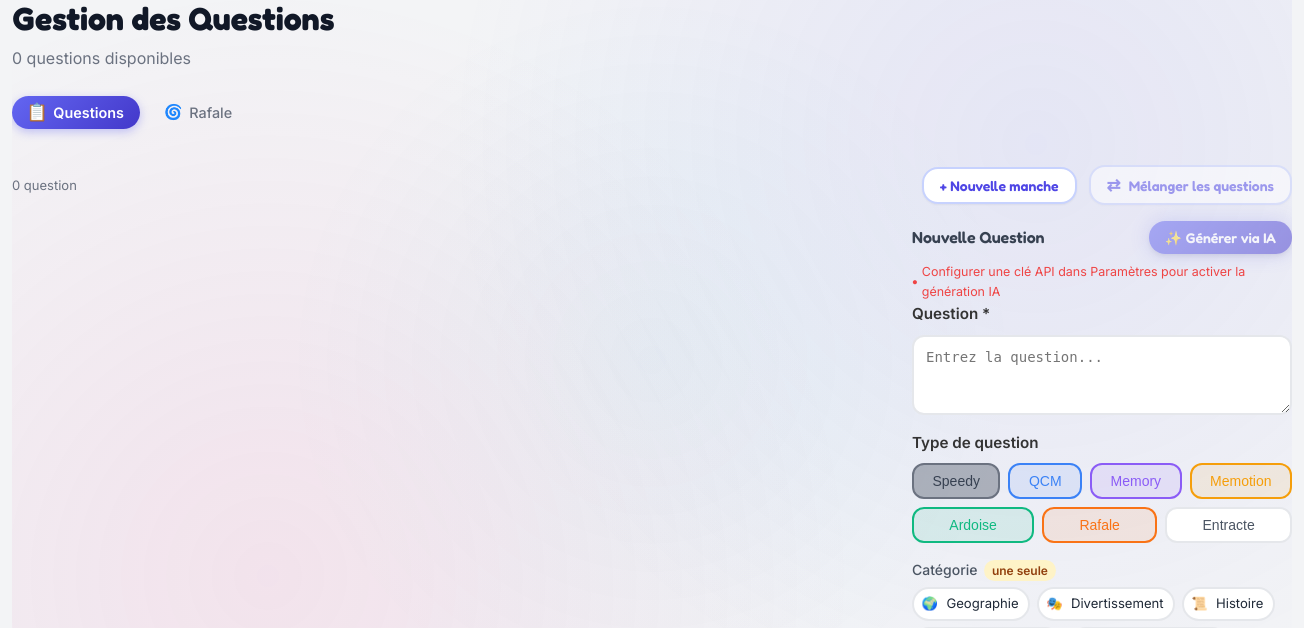
Test case: QuestionsPage — formulaire ARDOISE (#87) › affiche le champ "Bonne réponse" pour ARDOISE (libellé spécifique animateur)
Click the button "Ardoise" at (973, 525), box [912,507,1034,543]
(page scrolled)
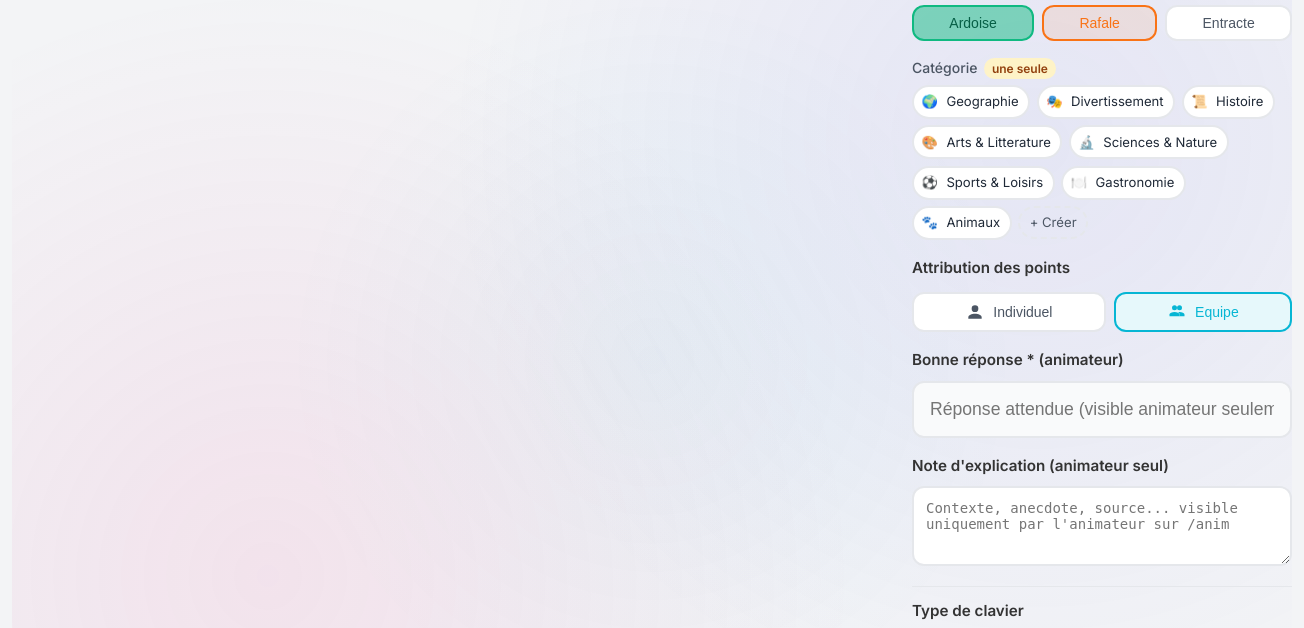
Now the text "Bonne réponse * (animateur)" is shown, box [912,350,1124,369]
